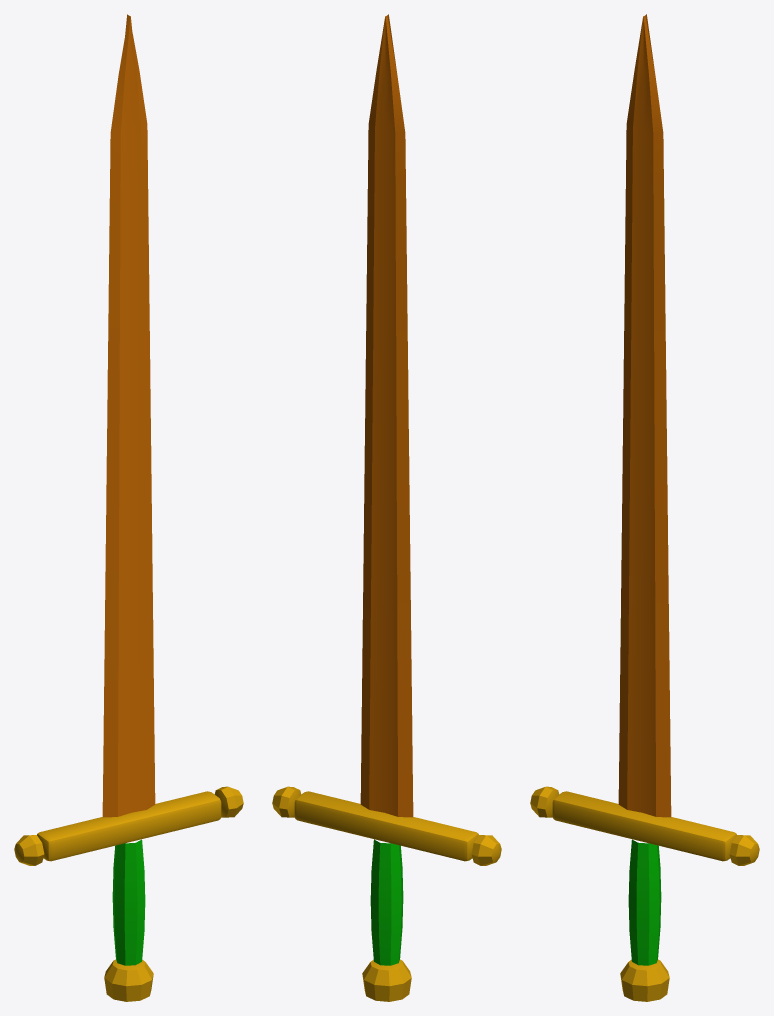
Rendered from blade.glb.
3 views of the same model, side by side, from view 1: azimuth 30°, elevation 25°; view 2: azimuth 150°, elevation 25°; view 3: azimuth 330°, elevation 25° (orthographic).
Parts seen in each view (by area): view 1: Blade; view 2: Blade; view 3: Blade.
Part boxes in pixels (left/top/right/bottom): Blade: left=14, top=14, right=243, bottom=1001; Blade: left=272, top=14, right=501, bottom=1001; Blade: left=530, top=14, right=759, bottom=1001.
Size of the model in its own units: 0.308 by 1.28 by 0.06.
